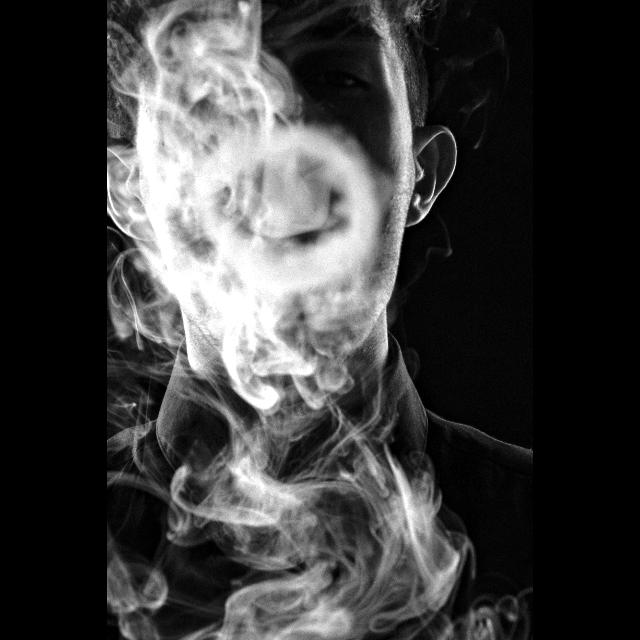smoke: (107, 0, 514, 640)
